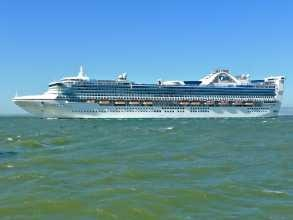youlun: (15, 61, 291, 121)
